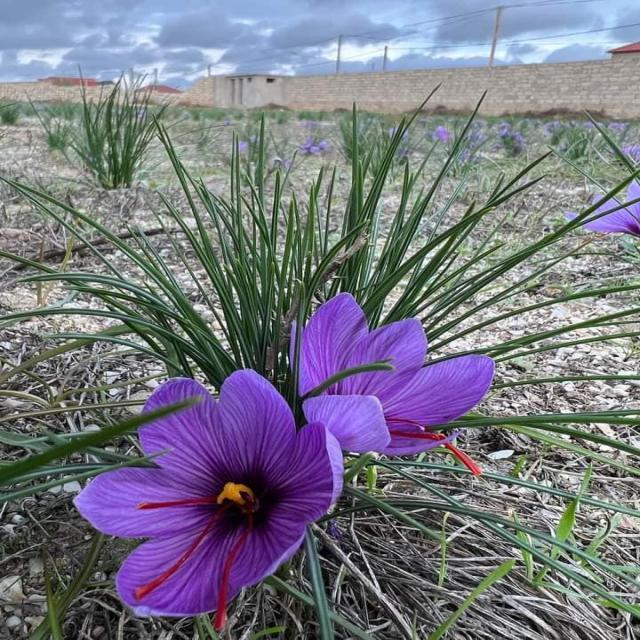Flower: (75, 370, 342, 627), (306, 300, 474, 442)
stigma: (375, 413, 503, 480), (130, 524, 208, 620), (216, 529, 254, 637), (128, 488, 233, 522)
